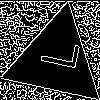L: (31, 34, 80, 72)
